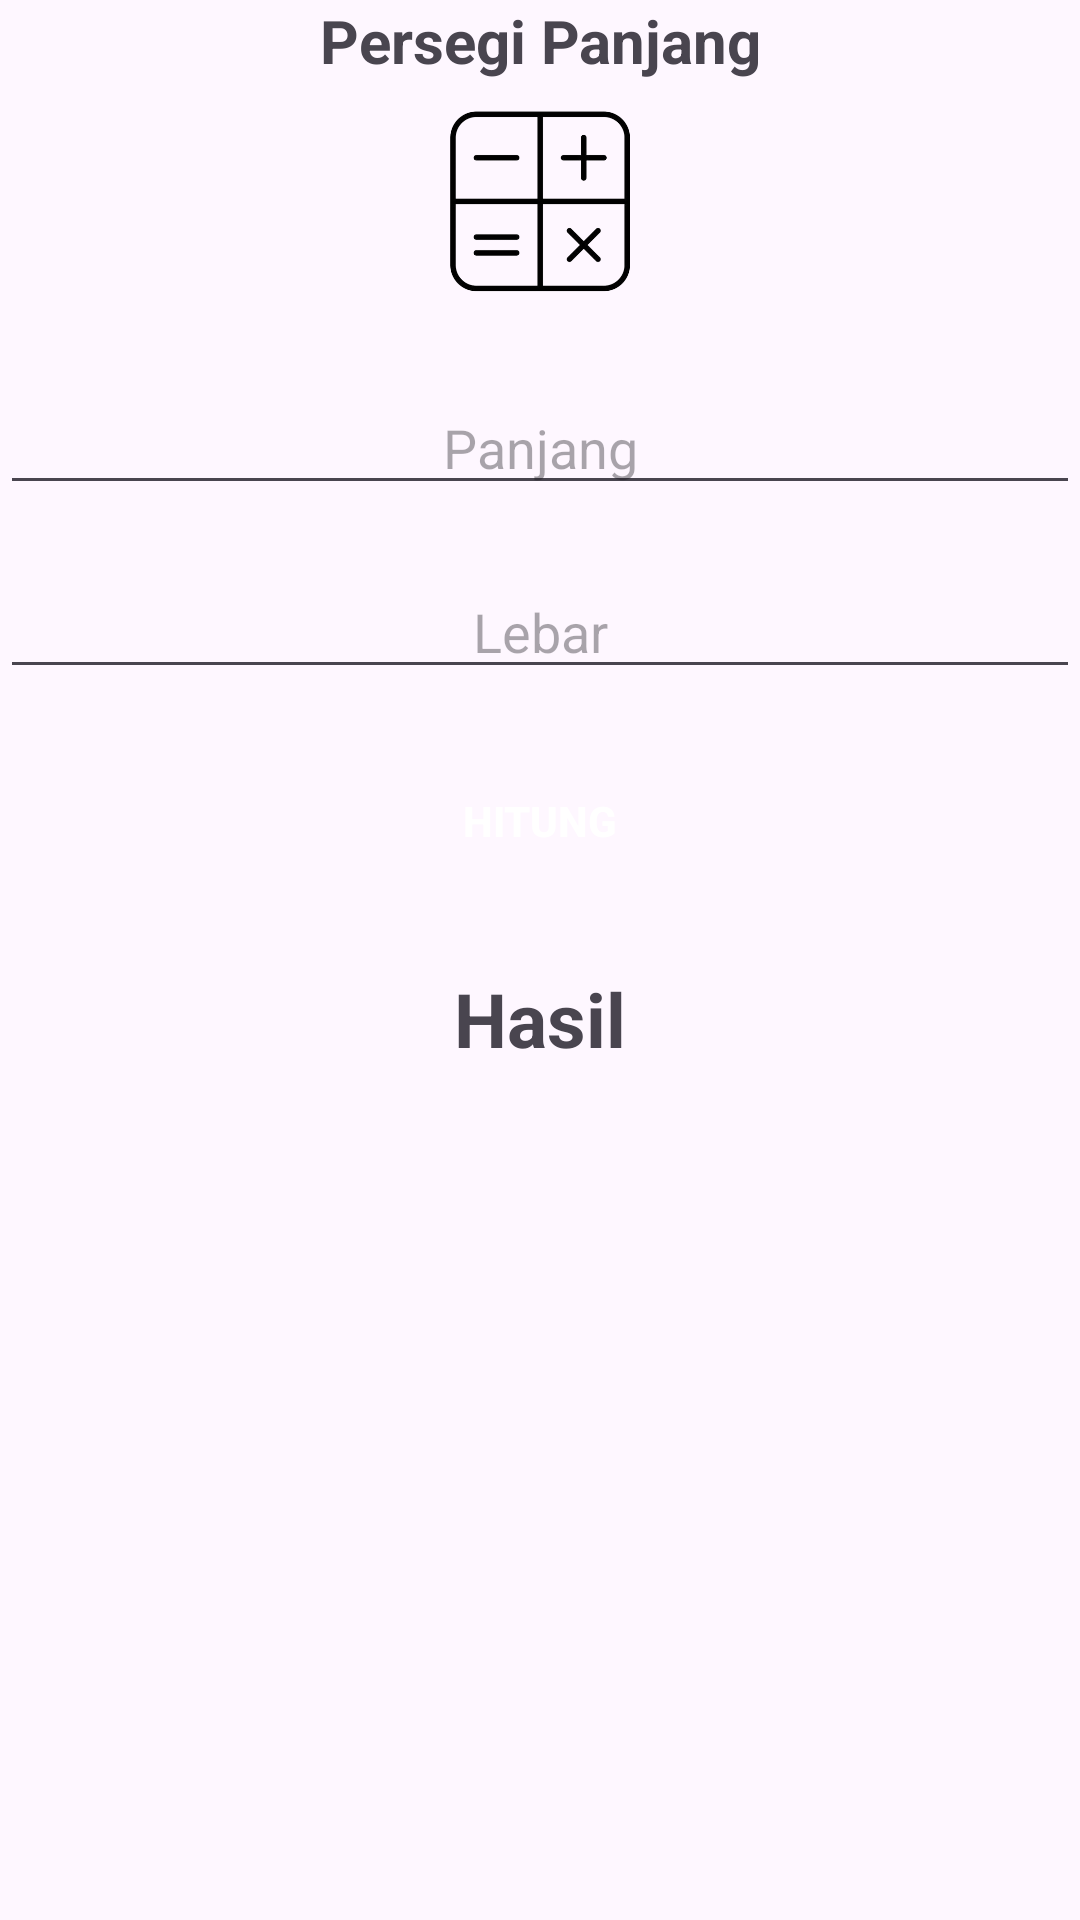

Icon bounding boxes for this 1080×1920 phone screenshot, format [left=x1, top=y1, right=x2, bottom=y2]:
calculator: [left=450, top=111, right=630, bottom=291]
